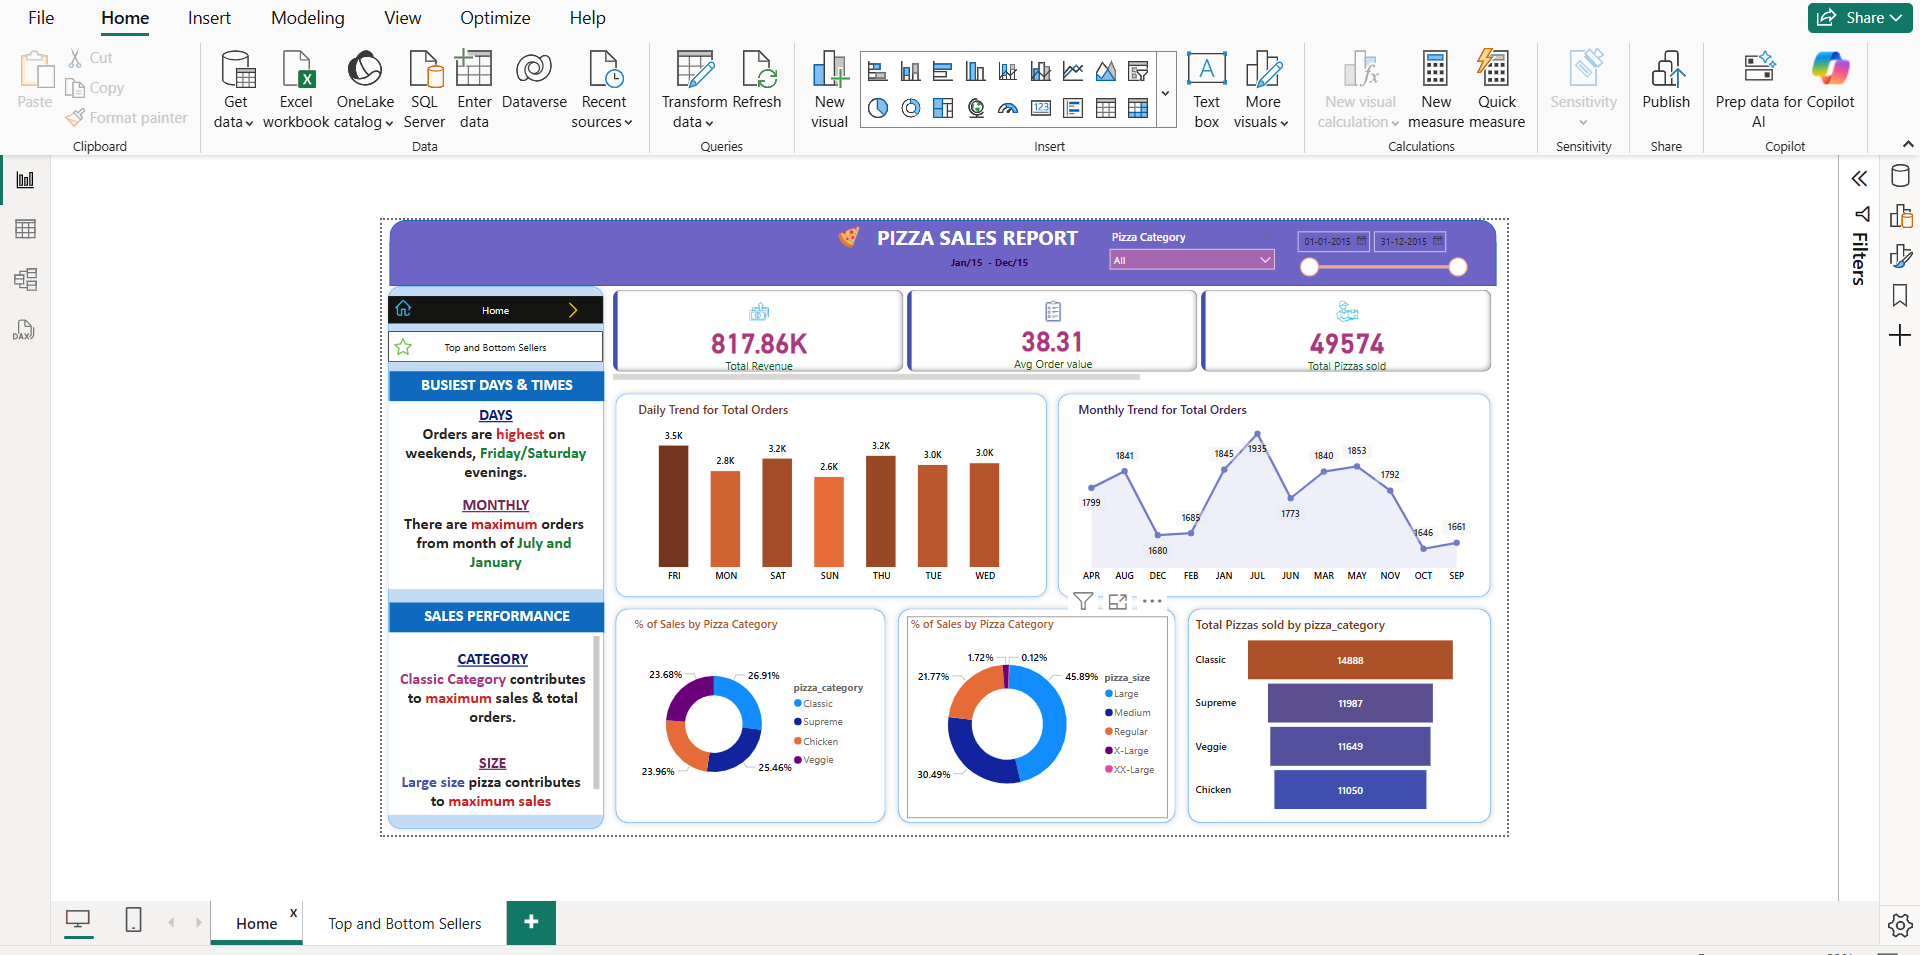

What the dashboard file says about the page in this screenshot:
{"tool":"powerbi","page":{"name":"Home","canvas":[1500,820],"ordinal":0},"visuals":[{"type":"shape","box":[302.5,222.5,591.2,287.5],"z":0},{"type":"columnChart","title":"Daily Trend for Total Orders ","fields":{"Y":["pizza_sales.Total Orders"],"Category":["pizza_sales.Order Day"]},"box":[336.2,241.2,521.2,251.2],"z":1000},{"type":"shape","box":[0,80,303.8,740],"z":2000},{"type":"cardVisual","fields":{"Data":["pizza_sales.Total Revenue","pizza_sales.Avg Order value","pizza_sales.Total Pizzas sold","pizza_sales.Total Orders","pizza_sales.Avg Pizzas Per Order"]},"box":[303.8,87.5,1182.5,132.5],"z":3000},{"type":"shape","box":[10,0,1476,88],"z":4000},{"type":"textbox","box":[655,0,287.5,52.5],"z":5000},{"type":"textbox","box":[754,42,124,36],"z":6000},{"type":"image","box":[590.5,4.1,64.9,39.2],"z":7000},{"type":"shape","box":[892.5,222.5,592.5,287.5],"z":8000},{"type":"areaChart","title":"Monthly Trend for Total Orders","fields":{"Category":["pizza_sales.Order Month"],"Y":["pizza_sales.Total Orders"]},"box":[923.8,241.2,532.5,251.2],"z":9000},{"type":"shape","box":[304,510,376,302],"z":10000},{"type":"shape","box":[680,510,386,302],"z":11000},{"type":"textbox","box":[9.2,202.3,286.2,40],"z":12000},{"type":"shape","box":[1066,510,420,302],"z":13000},{"type":"donutChart","title":"% of Sales by Pizza Category","fields":{"Category":["pizza_sales.pizza_category"],"Y":["pizza_sales.Total Revenue"]},"box":[332,528,322,268],"z":14000},{"type":"donutChart","title":"% of Sales by Pizza Category","fields":{"Y":["pizza_sales.Total Revenue"],"Category":["pizza_sales.pizza_size"]},"box":[700,528,348,268],"z":15000},{"type":"funnel","fields":{"Category":["pizza_sales.pizza_category"],"Y":["pizza_sales.Total Pizzas sold"]},"box":[1080,528,358,268],"z":16000},{"type":"textbox","box":[8.9,242.2,286.7,250],"z":17000},{"type":"textbox","box":[10,510,286.7,40],"z":18000},{"type":"textbox","box":[8.9,550,286.7,243.3],"z":19000},{"type":"slicer","fields":{"Values":["pizza_sales.pizza_category"]},"box":[960,6,240,76],"z":20000},{"type":"slicer","fields":{"Values":["pizza_sales.order_date"]},"box":[1208.8,5,247.5,75],"z":21000},{"type":"pageNavigator","box":[8.7,101.3,286.7,36.7],"z":22000},{"type":"pageNavigator","box":[8.7,148,286.7,41.3],"z":23000},{"type":"image","box":[234.7,104.7,40.7,30.7],"z":24000},{"type":"image","box":[0,101.3,57.3,31.3],"z":25000},{"type":"image","box":[12,148,33.3,40],"z":26000}]}

Visuals, with their boxes on the page's 1500x820 design canvas (x1, y1, x2, y2). These are canvas units, not pixel positions in the 1920x955 screenshot, which may show the page scaled, cropped or inside an application window:
shape: 302 222 894 510
"Daily Trend for Total Orders " columnChart: 336 241 857 492
shape: 0 80 304 820
cardVisual - pizza_sales.Total Revenue x pizza_sales.Avg Order value: 304 88 1486 220
shape: 10 0 1486 88
textbox: 655 0 942 52
textbox: 754 42 878 78
image: 590 4 655 43
shape: 892 222 1485 510
"Monthly Trend for Total Orders" areaChart: 924 241 1456 492
shape: 304 510 680 812
shape: 680 510 1066 812
textbox: 9 202 295 242
shape: 1066 510 1486 812
"% of Sales by Pizza Category" donutChart: 332 528 654 796
"% of Sales by Pizza Category" donutChart: 700 528 1048 796
funnel - pizza_sales.pizza_category x pizza_sales.Total Pizzas sold: 1080 528 1438 796
textbox: 9 242 296 492
textbox: 10 510 297 550
textbox: 9 550 296 793
slicer - pizza_sales.pizza_category: 960 6 1200 82
slicer - pizza_sales.order_date: 1209 5 1456 80
pageNavigator: 9 101 295 138
pageNavigator: 9 148 295 189
image: 235 105 275 135
image: 0 101 57 133
image: 12 148 45 188
